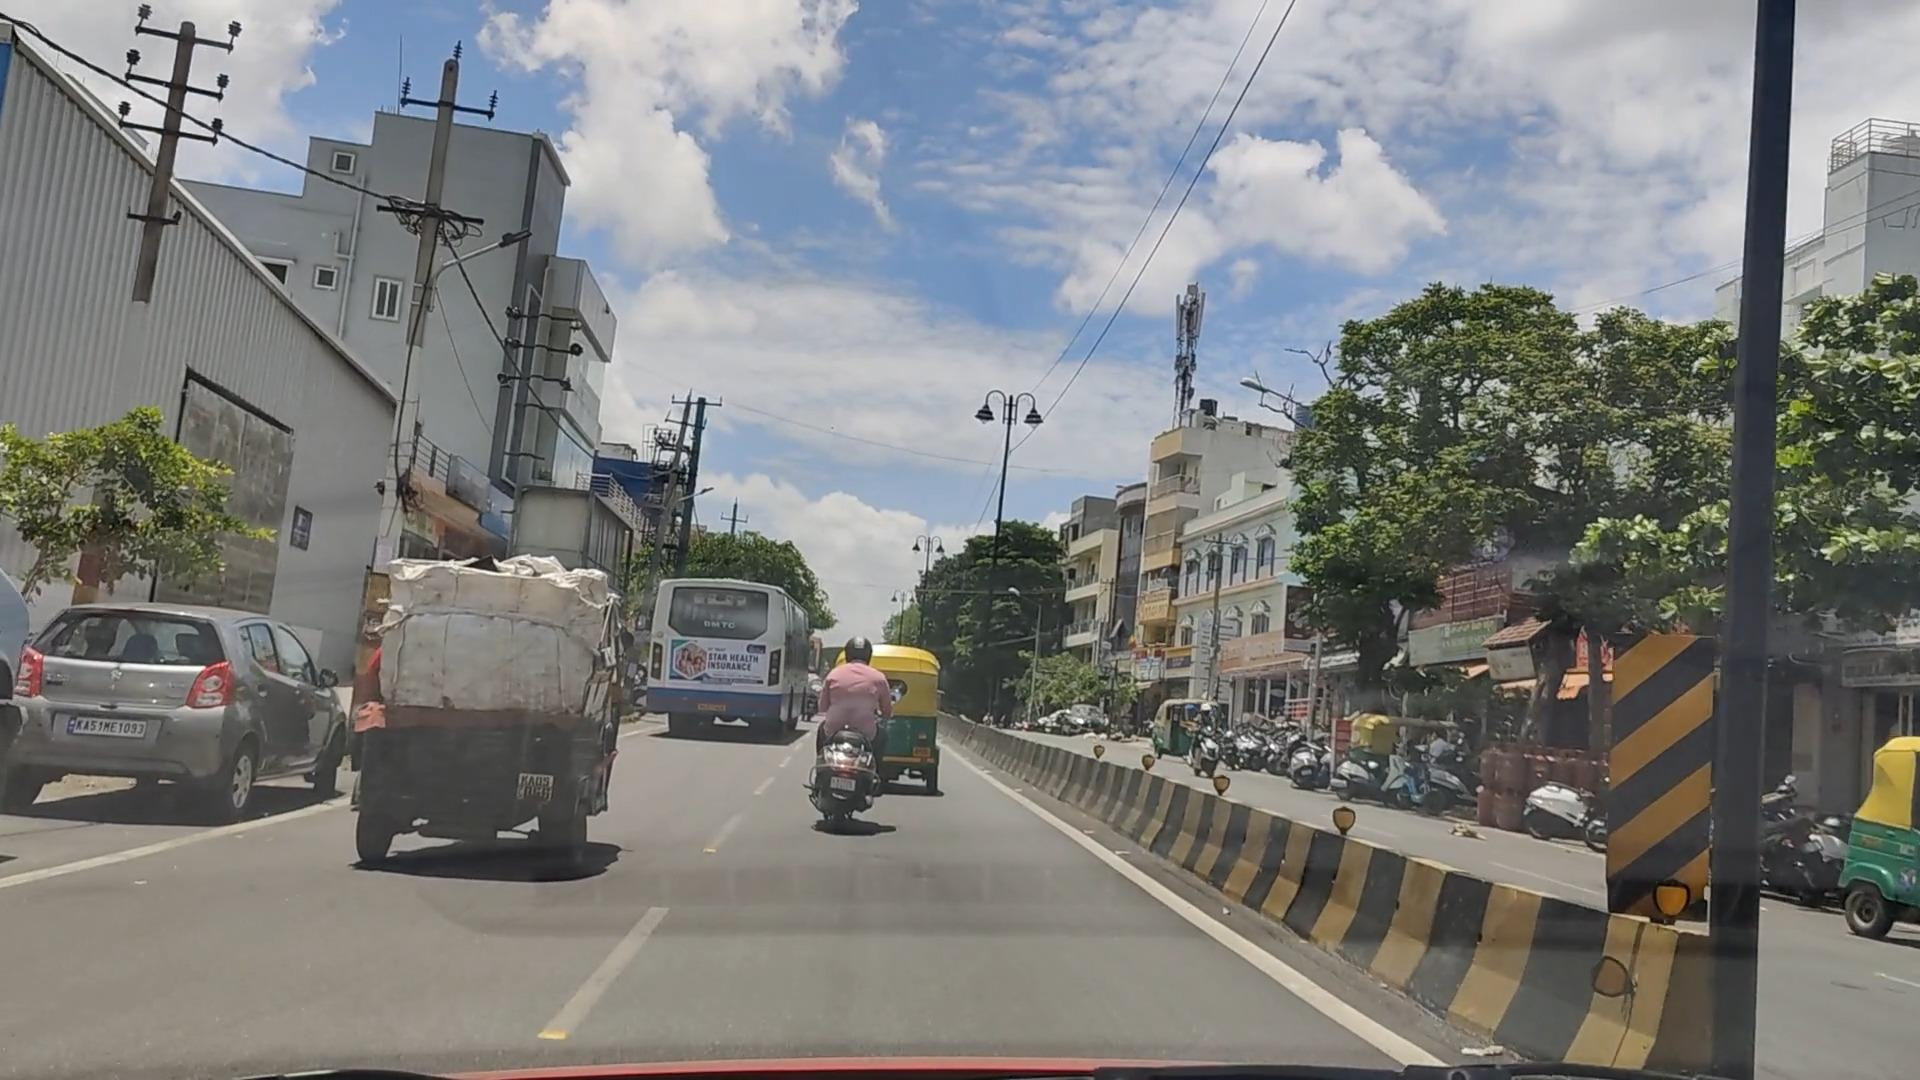HMV: (655, 566, 818, 744)
LMV: (353, 566, 625, 894), (18, 578, 339, 819), (786, 647, 913, 843), (818, 650, 976, 781)
